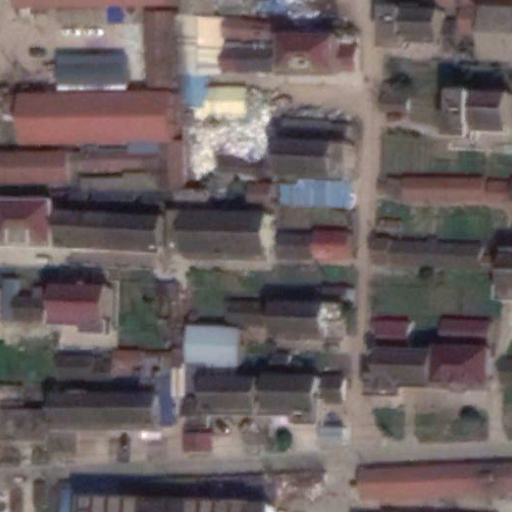msw: (183, 94, 274, 186)
